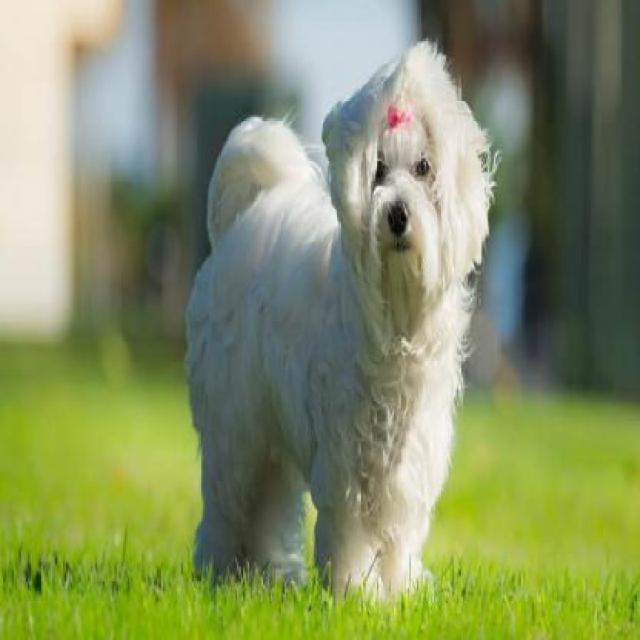Dog: (180, 28, 494, 602)
